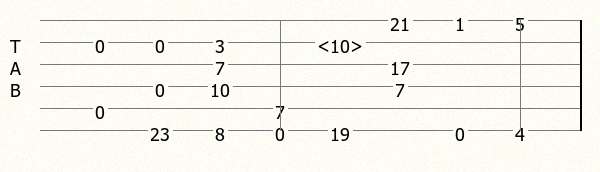0: (95, 100, 109, 117), (95, 34, 109, 51), (155, 78, 169, 95), (155, 34, 169, 51), (275, 122, 289, 139), (455, 122, 469, 139)
1: (455, 12, 469, 29)
10: (210, 78, 234, 95)
17: (390, 56, 414, 73)
19: (330, 122, 354, 139)
21: (390, 12, 414, 29)
23: (150, 122, 174, 139)
3: (215, 34, 229, 51)
4: (515, 122, 529, 139)
5: (515, 12, 529, 29)
7: (215, 56, 229, 73), (275, 100, 289, 117), (395, 78, 409, 95)
8: (215, 122, 229, 139)
harmonic: (317, 34, 367, 51)
